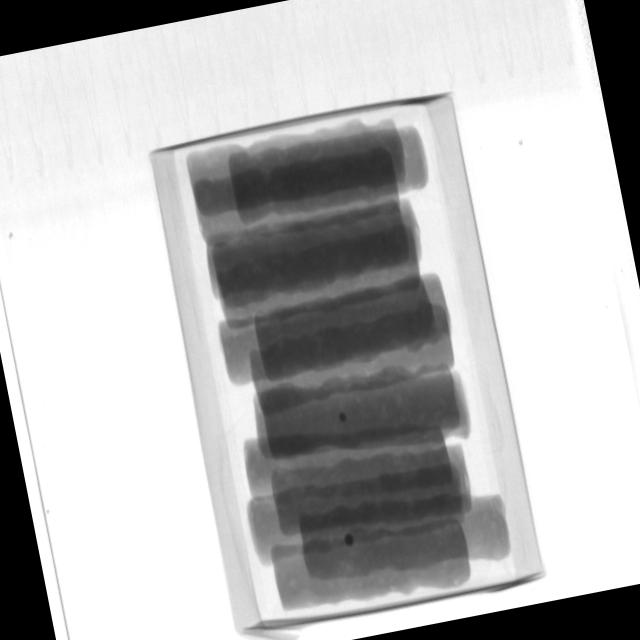ym: (346, 533, 358, 547), (339, 414, 348, 424)
